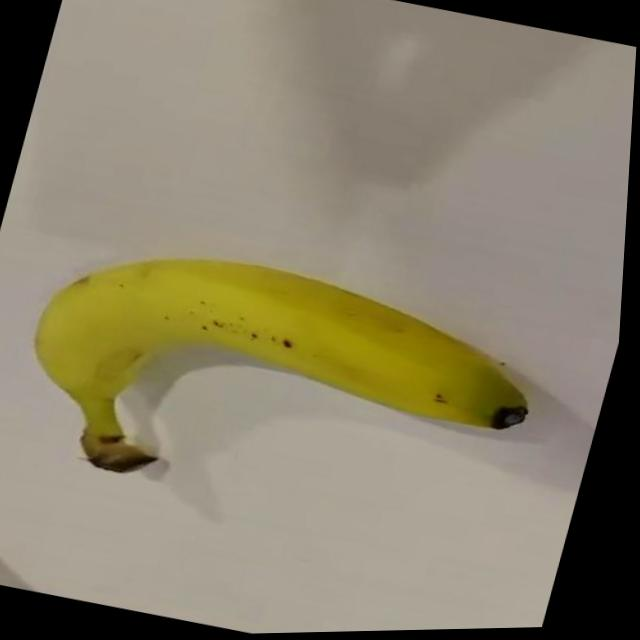Banana: (1, 216, 556, 549)
